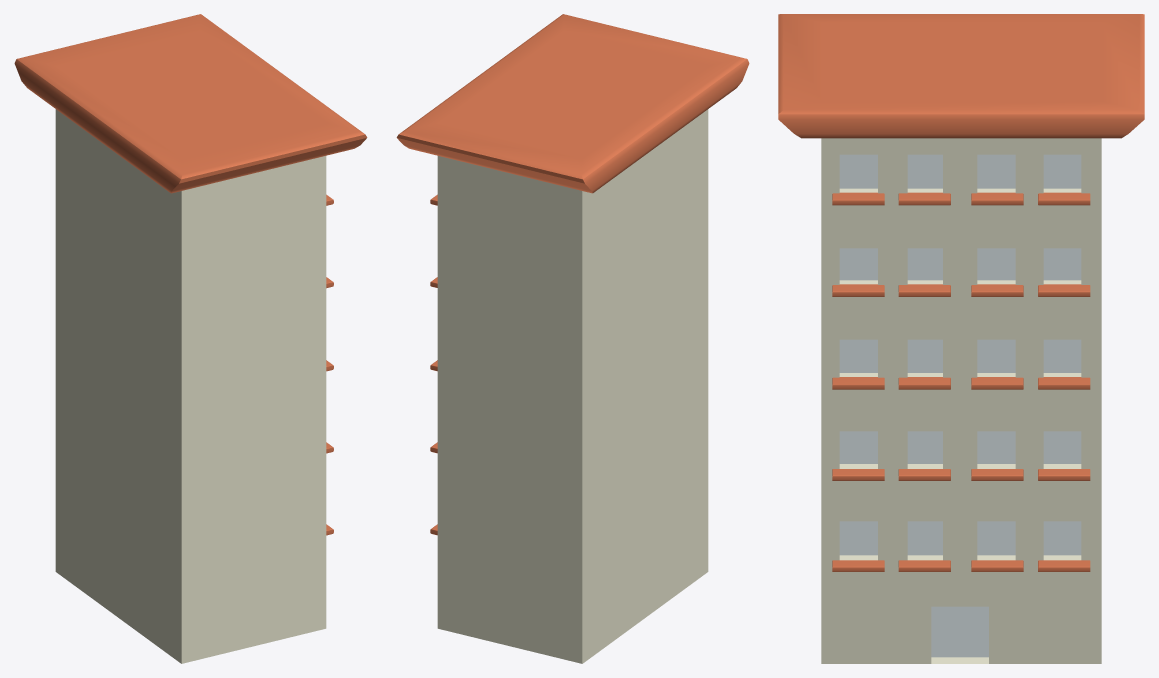
The model's file is BuildingTall_05.fbx.
3 renders of one model, left to right at view 1: azimuth 30°, elevation 25°; view 2: azimuth 150°, elevation 25°; view 3: azimuth 270°, elevation 25°, orthographic. The views are drawn at different scales.
Visible parts, largest first — view 1: polySurface767; view 2: polySurface767; view 3: polySurface767.
Boxes of the visible parts, x1,y1,x2,y2 form: polySurface767: (14,14,367,663); polySurface767: (396,14,749,663); polySurface767: (778,14,1144,663).
Bounding box in the file's own units: 5.59 × 14.33 × 8.46.
1 material, 1 textured.
